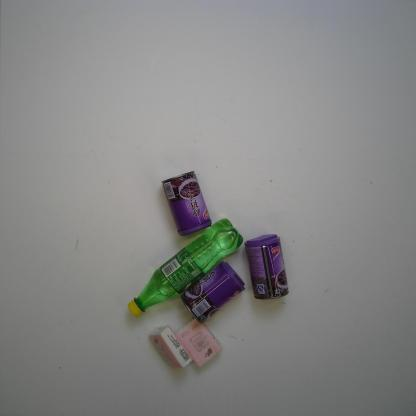Canned Food: (179, 260, 246, 324), (160, 167, 213, 237), (242, 231, 290, 301)
Drink: (125, 215, 244, 317)
Tissue: (172, 320, 225, 369), (148, 324, 193, 370)
